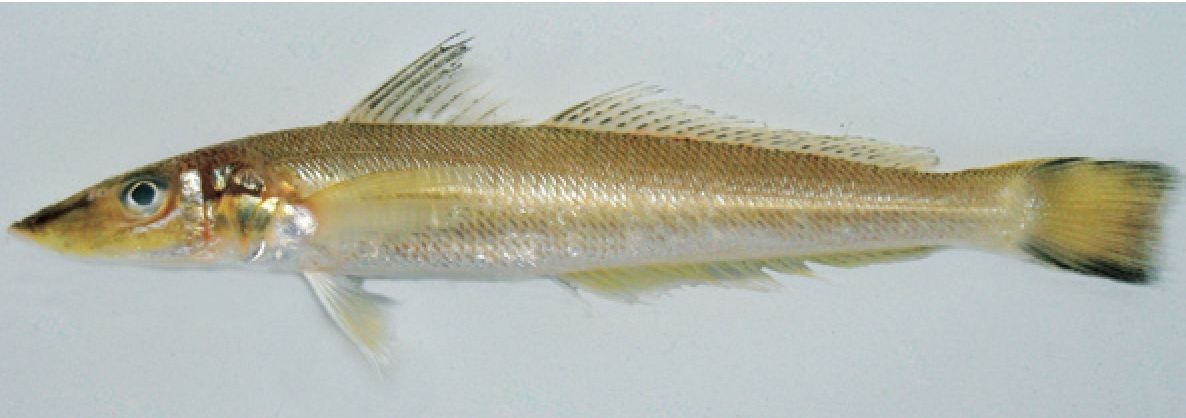kiss: (28, 79, 1172, 375)
